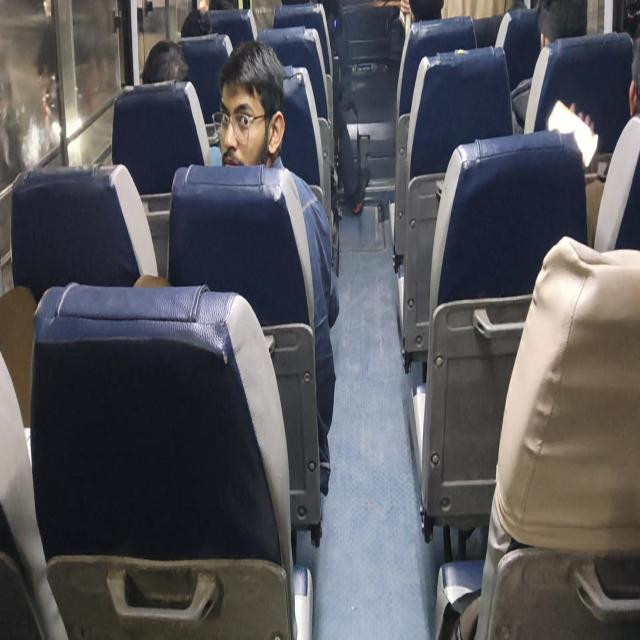person: (134, 39, 340, 498), (510, 0, 588, 134), (140, 38, 190, 84)
